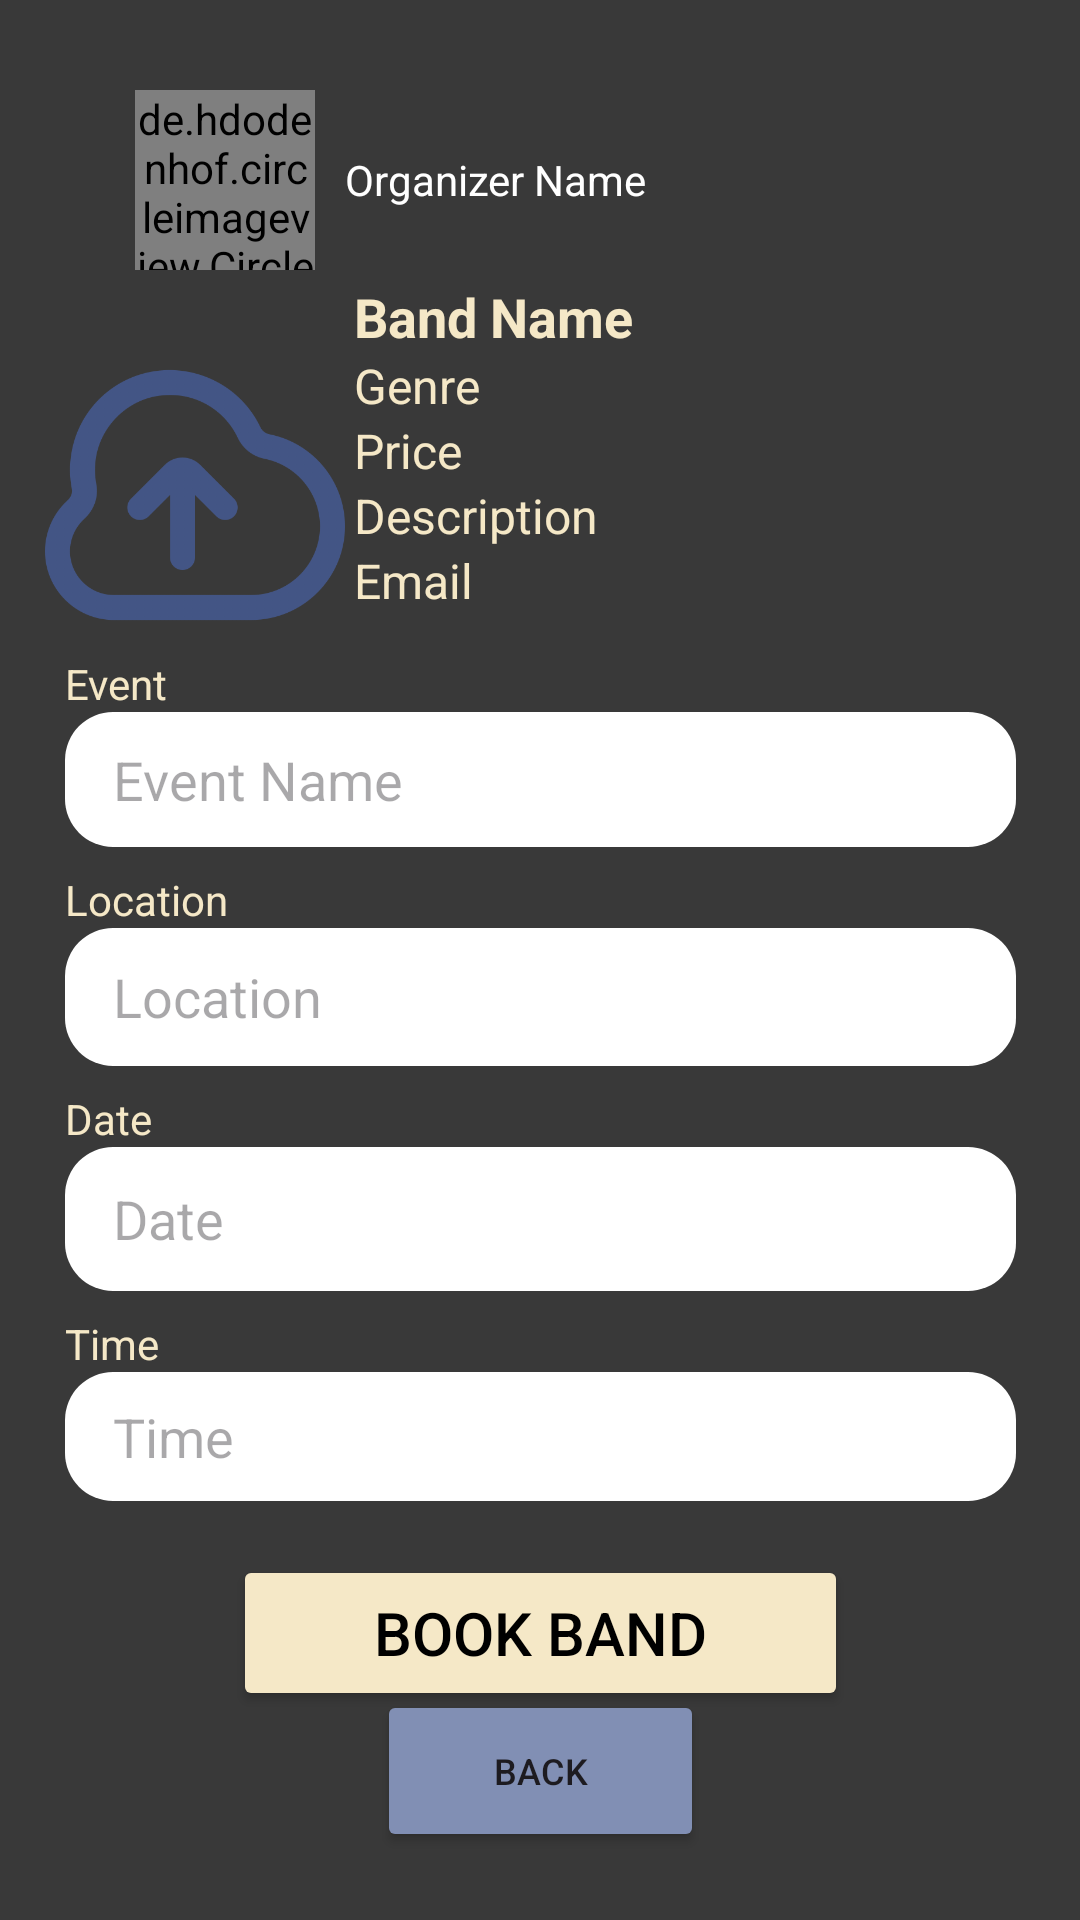

Where to tap for icons on this 1080 × 1920 app screen, as [x,y]:
upload: [195,495]
